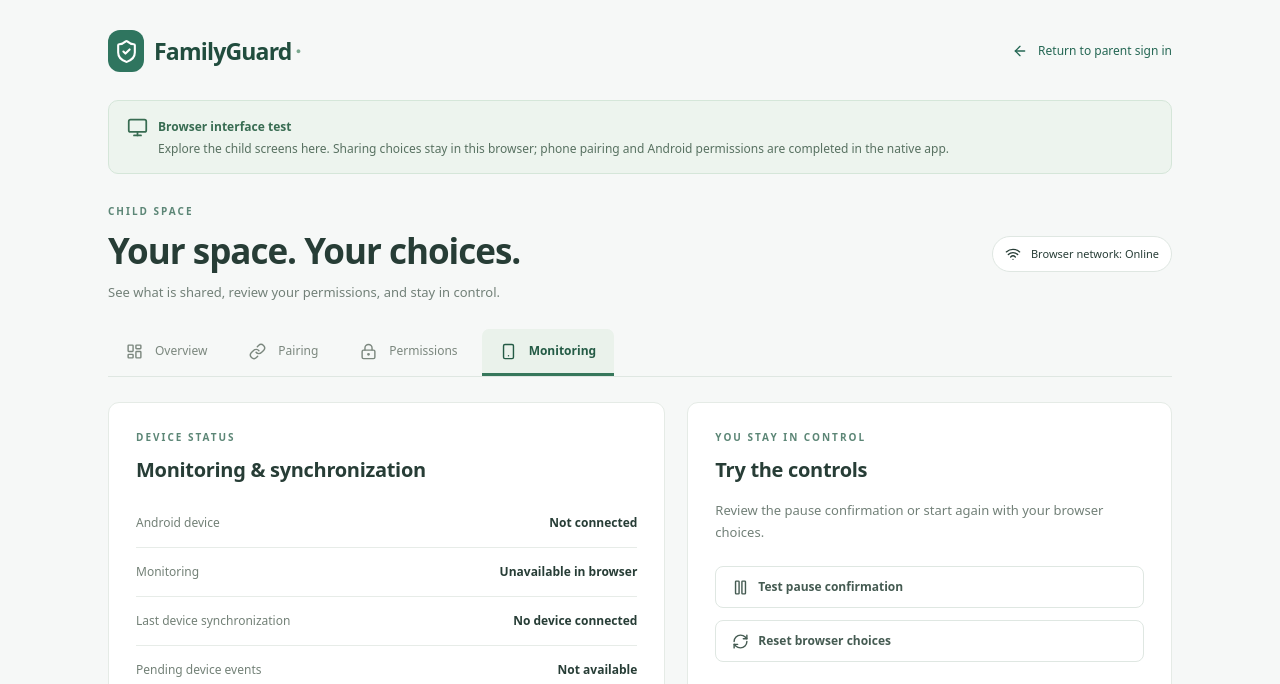
Scenario: child browser interface › allows cancellation and confirmation of the pause test without changing device status
Click the button "Test pause confirmation": (831, 587) [715,566,1144,608]
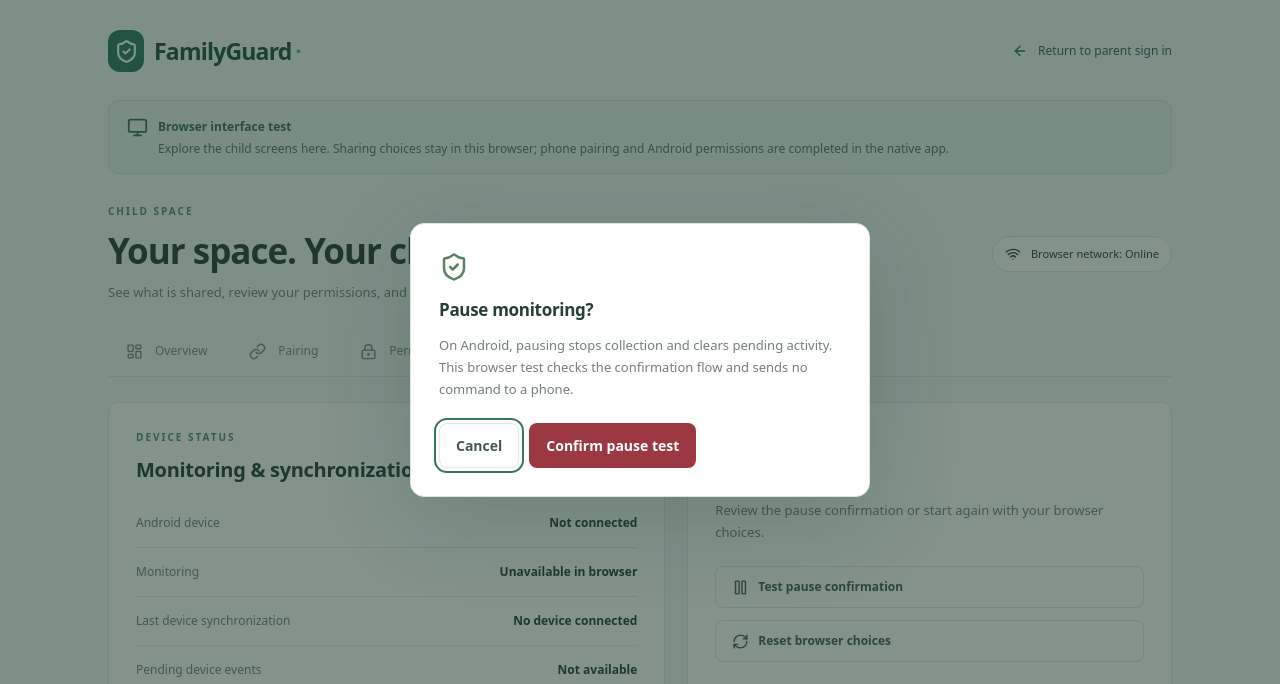
Result: the dialog "Pause monitoring?" is shown at [410,223,870,497]
Click the button "Cancel": (479, 446) [439,423,519,468]
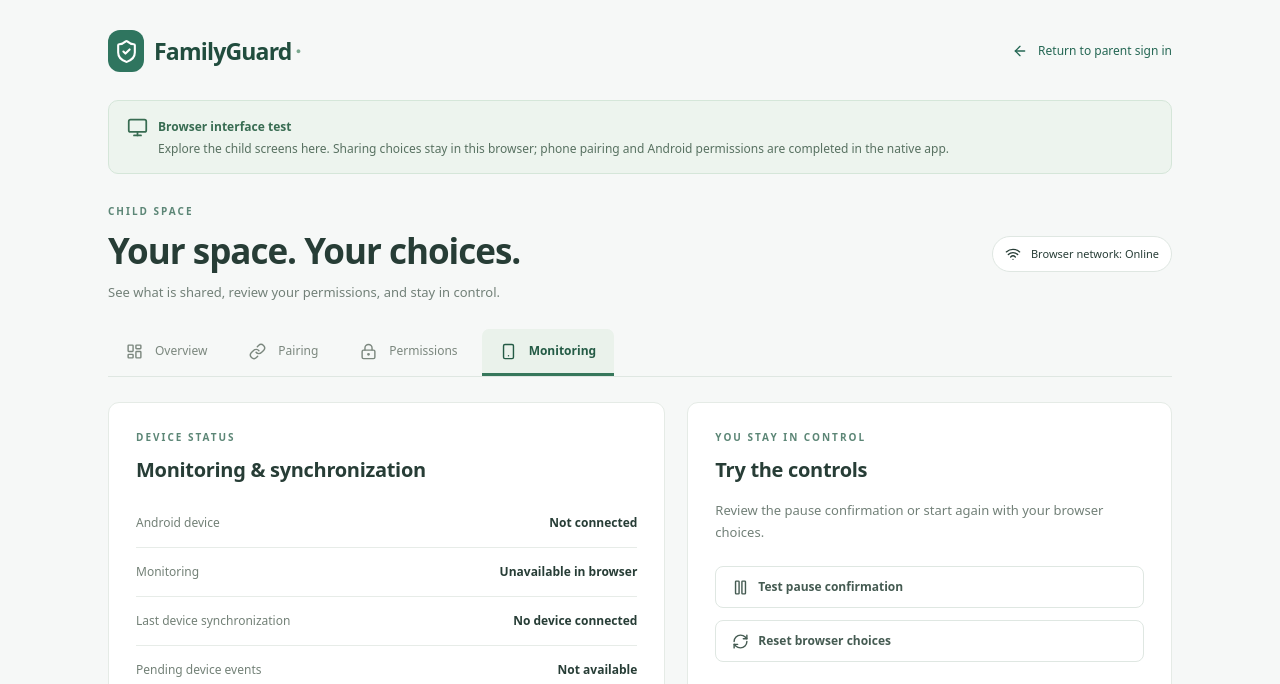
Result: the dialog is gone
Click the button "Test pause confirmation": (831, 587) [715,566,1144,608]
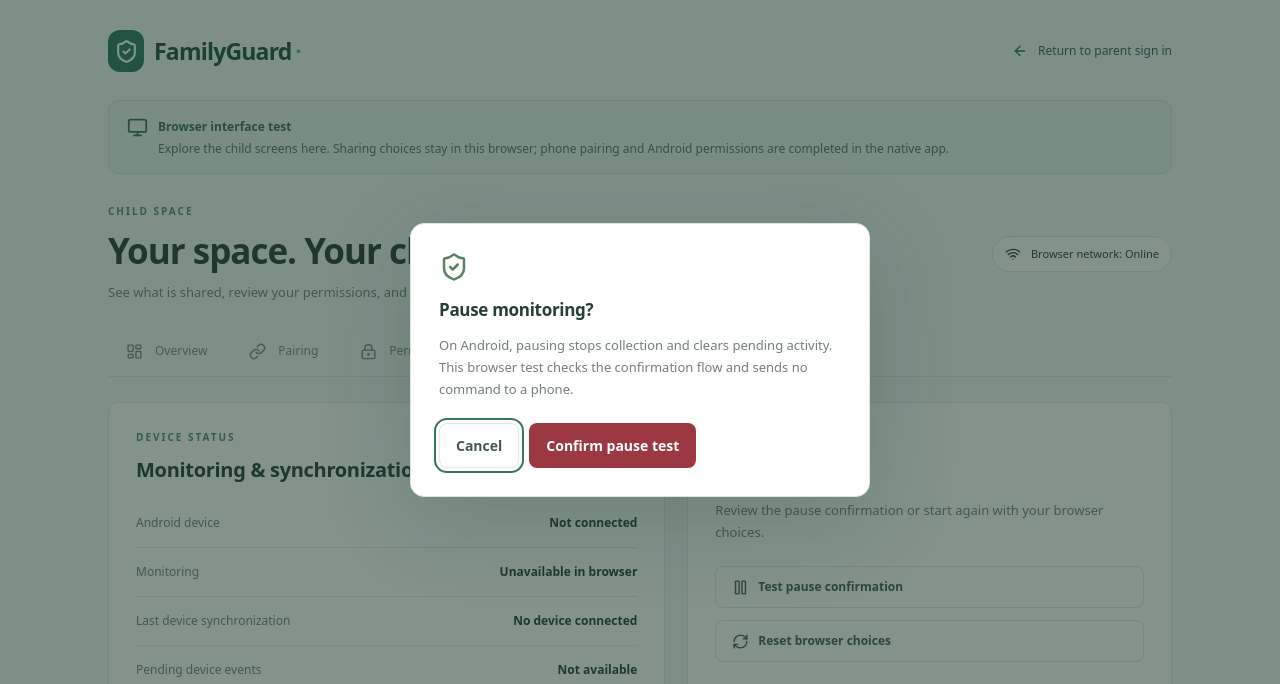
Click the button "Confirm pause test": (613, 446) [529,423,696,468]
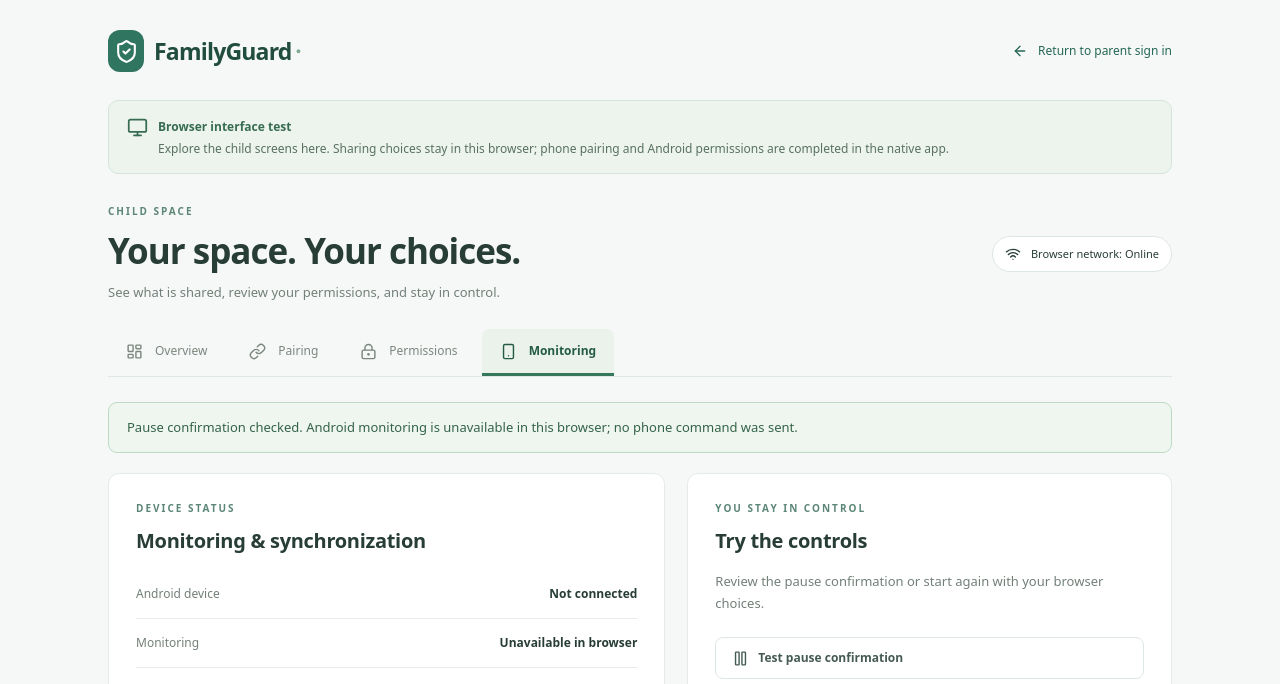
Expected: the text "Unavailable in browser" is shown, [500,634,637,652]
Result: the message shows "no phone command was sent" at [127,418,798,436]
